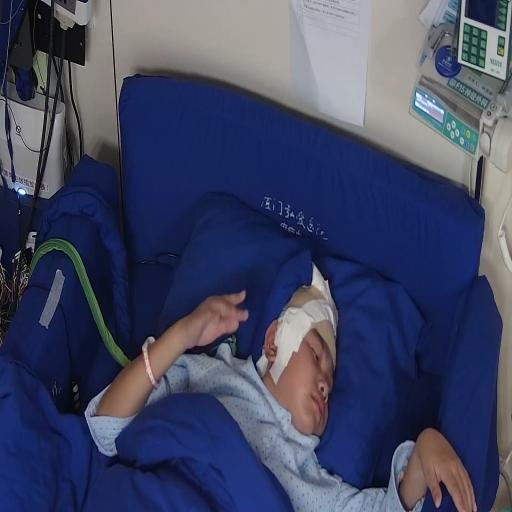Seizure: (267, 290, 338, 433)
